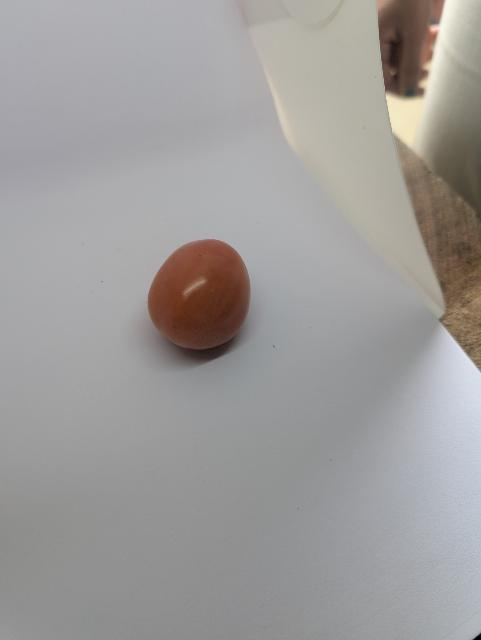red: (133, 236, 269, 366)
